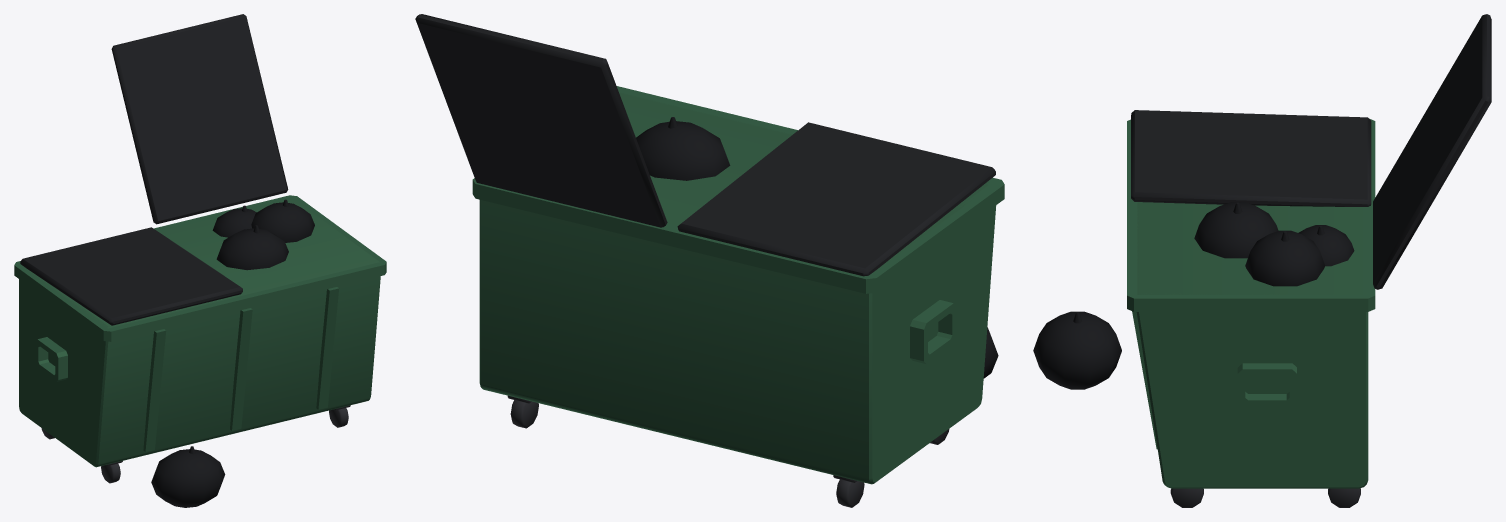
Rendered from Shop_Dumpster.fbx.
3 renders of one model, left to right at view 1: azimuth 30°, elevation 25°; view 2: azimuth 150°, elevation 25°; view 3: azimuth 270°, elevation 25°, orthographic. The views are drawn at different scales.
Visible parts, largest first — view 1: Body, LidR, LidL, Bags, Casters; view 2: Body, LidR, LidL, Bags, Casters; view 3: Body, LidL, Bags, LidR, Casters.
Part boxes in pixels (x1,y1,x2,y2): Body: (14, 195, 386, 467); LidR: (111, 14, 288, 224); LidL: (20, 227, 242, 325); Bags: (151, 199, 314, 507); Casters: (41, 405, 350, 483); Body: (472, 86, 1004, 484); LidR: (415, 14, 667, 227); LidL: (677, 122, 995, 276); Bags: (636, 117, 998, 378); Casters: (507, 395, 949, 507); Body: (1127, 118, 1375, 488); LidL: (1131, 110, 1371, 206); Bags: (1033, 202, 1354, 389); LidR: (1373, 14, 1491, 289); Casters: (1170, 488, 1360, 507).
Bounding box in the file's own units: 750 × 787 × 773.
